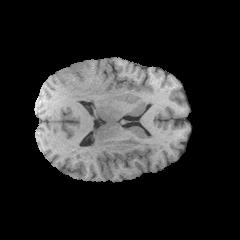glioma: (58, 61, 105, 102)
